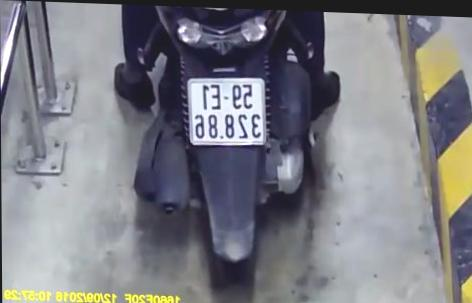License_Plate: (177, 70, 272, 154)
